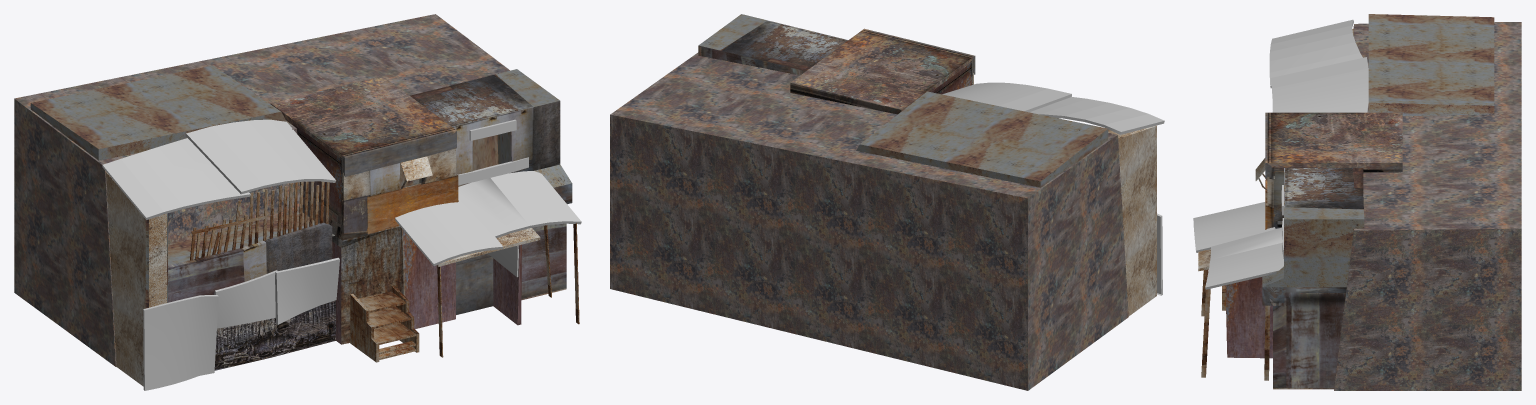
Rendered from building000.FBX.
The picture shows the model from 3 angles, left to right: view 1: azimuth 30°, elevation 25°; view 2: azimuth 150°, elevation 25°; view 3: azimuth 270°, elevation 25°; orthographic projection. The views are drawn at different scales.
Visible parts, largest first — view 1: Object005; view 2: Object005; view 3: Object005.
Boxes of the visible parts, box(x1,y1,x2,y2) form: Object005: box(14, 14, 581, 390); Object005: box(610, 14, 1164, 390); Object005: box(1193, 14, 1521, 390).
Size of the model in its own units: 210 by 96.05 by 152.
